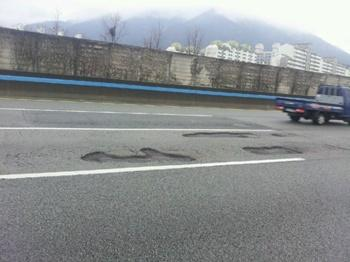pothole: (81, 142, 198, 170), (182, 126, 257, 141), (243, 145, 303, 159)
